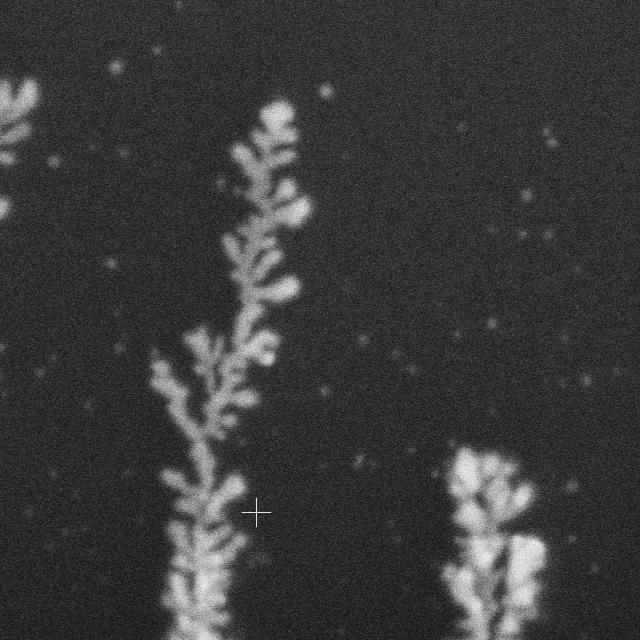Dendrite: (23, 101, 311, 640)
